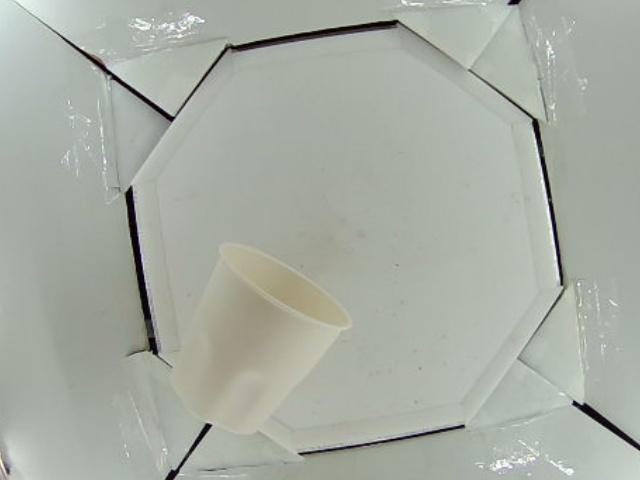Cup: (170, 240, 352, 430)
